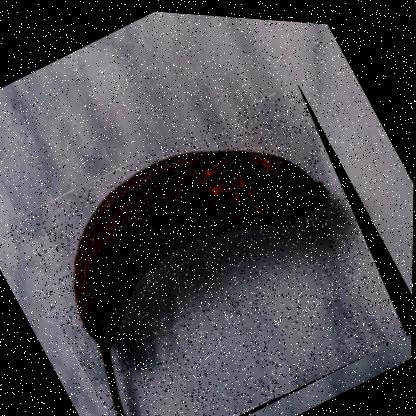banana_rotten: (1, 58, 415, 415)
